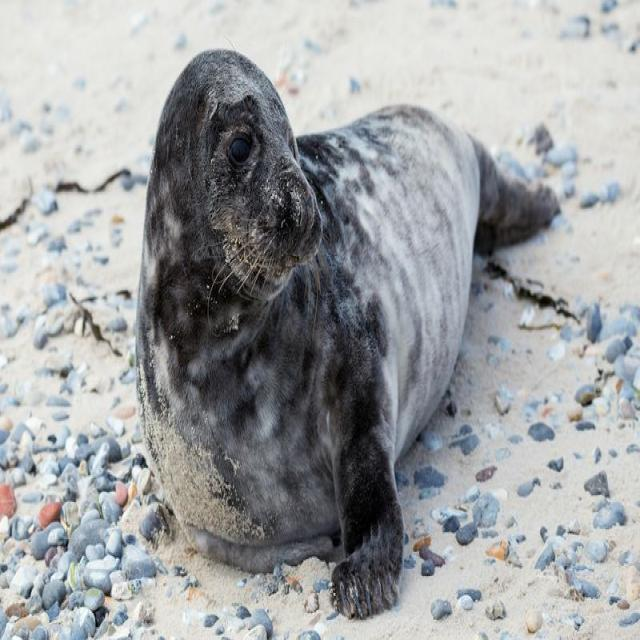WaterDog: (128, 44, 561, 617)
